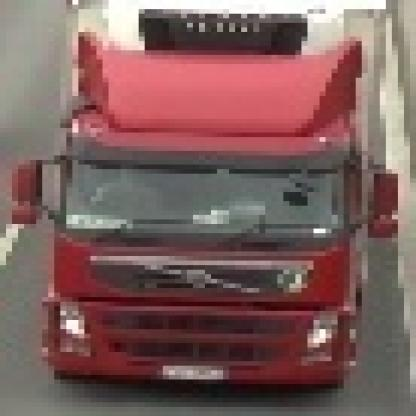truck: (7, 1, 393, 394)
